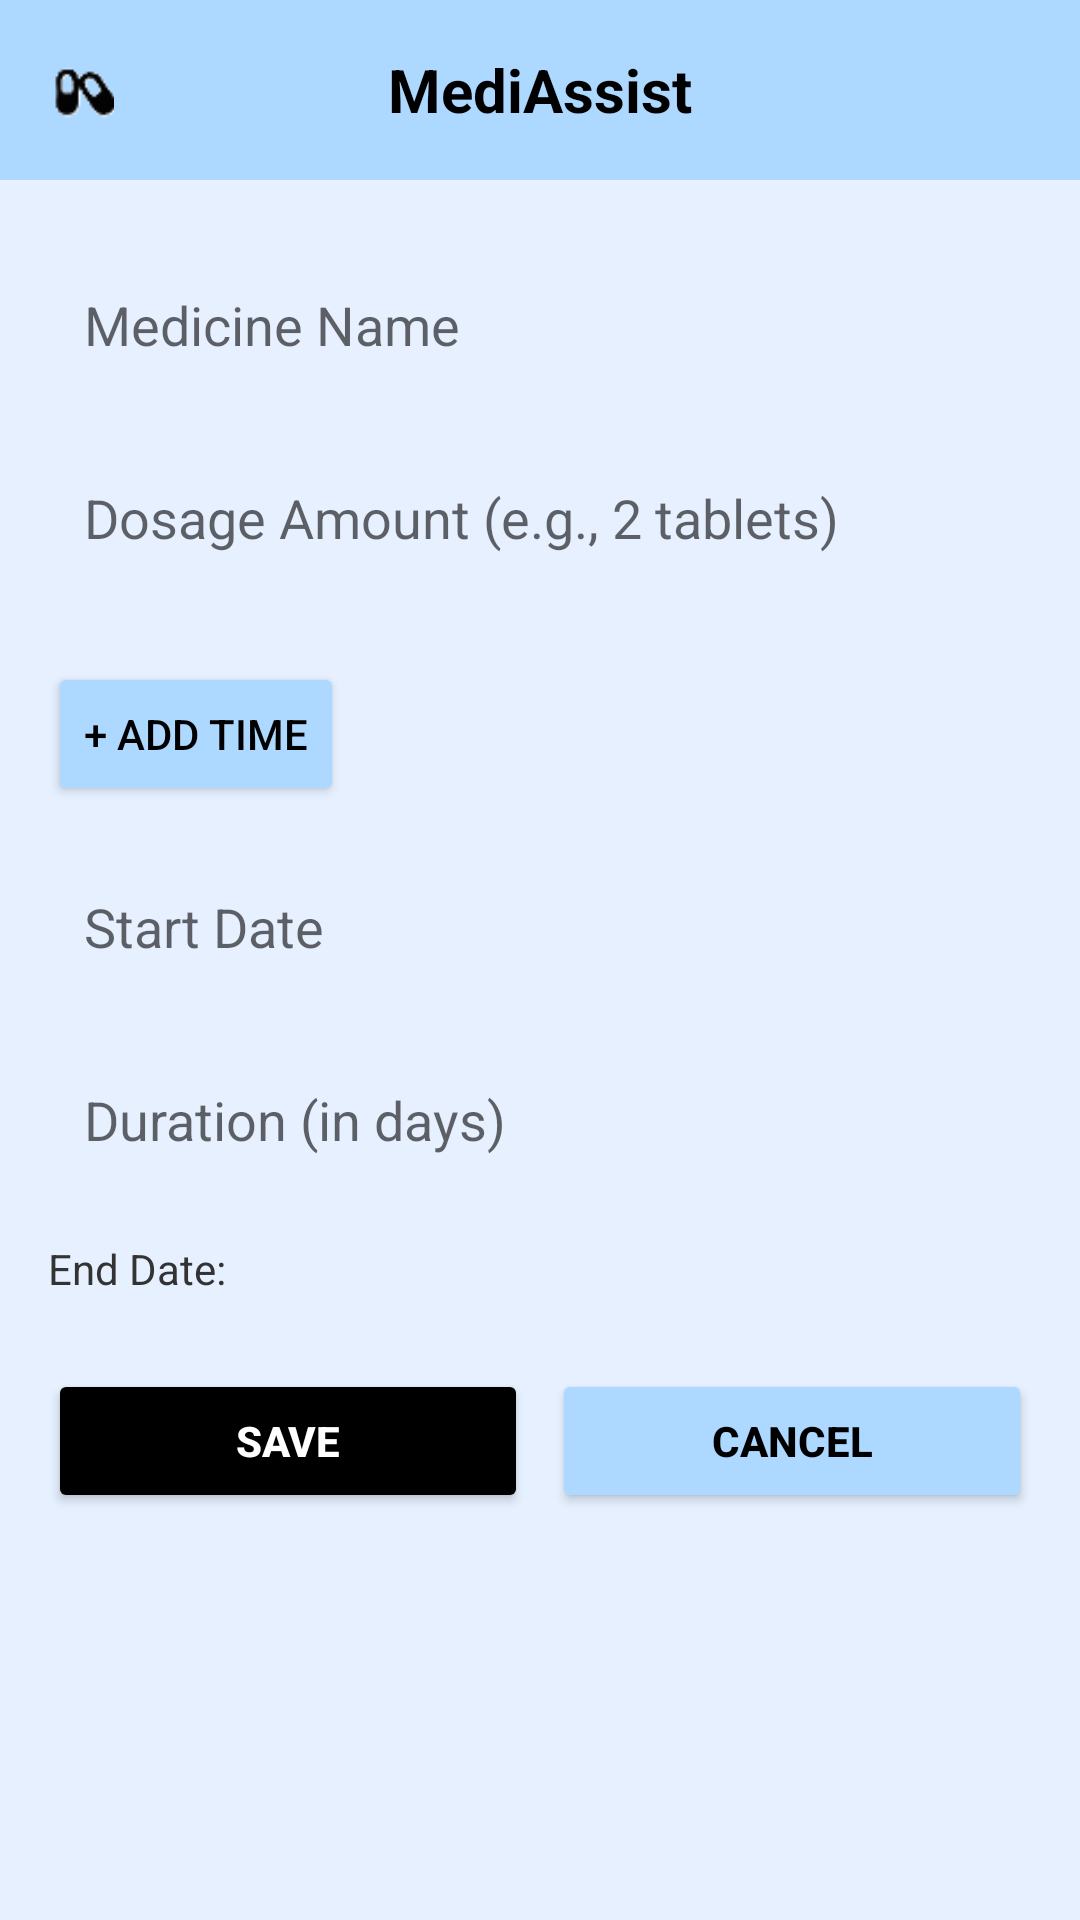

Screen size 1080w x 1920h. Icon name, then its box in pixels as [x1,y1,x2,y2]:
Pill Icon: [55,69,114,117]
